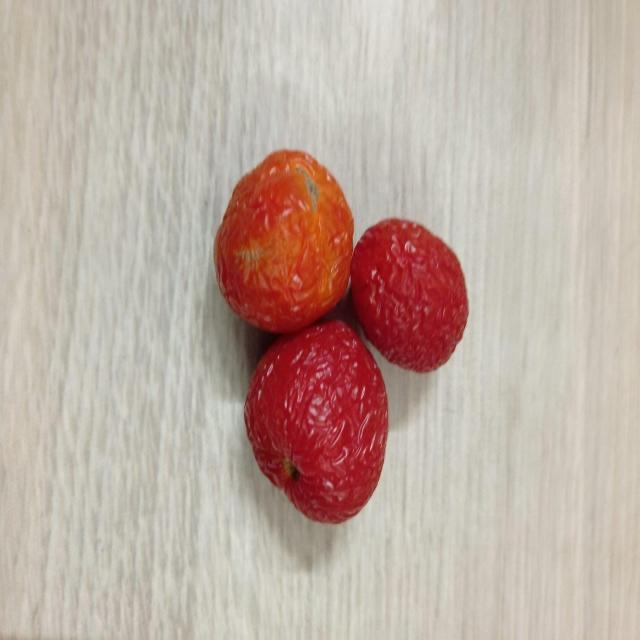overripe: (241, 317, 390, 525), (212, 146, 354, 332), (354, 215, 471, 373)
